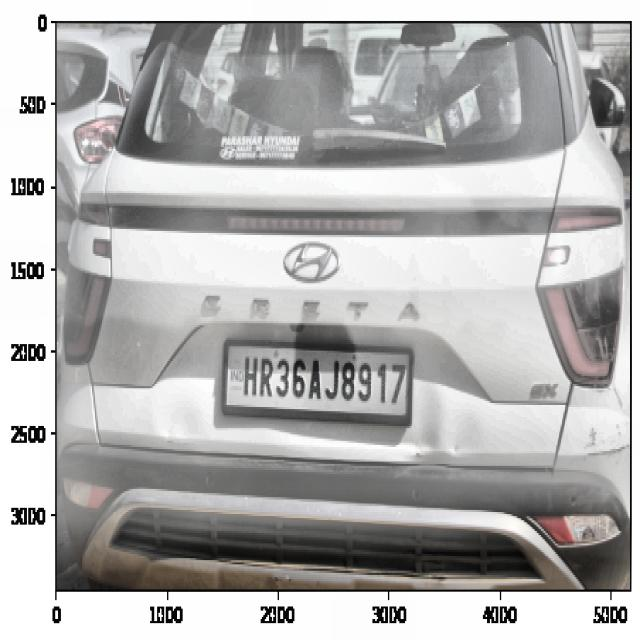license_plate: (240, 349, 409, 415)
